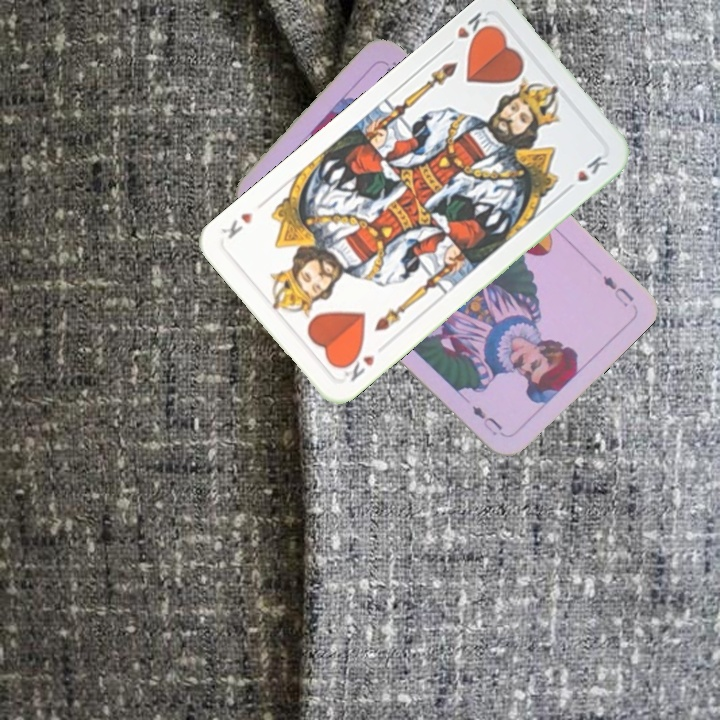EU: (598, 271, 637, 310)
HK: (440, 7, 496, 52), (336, 346, 378, 385)
